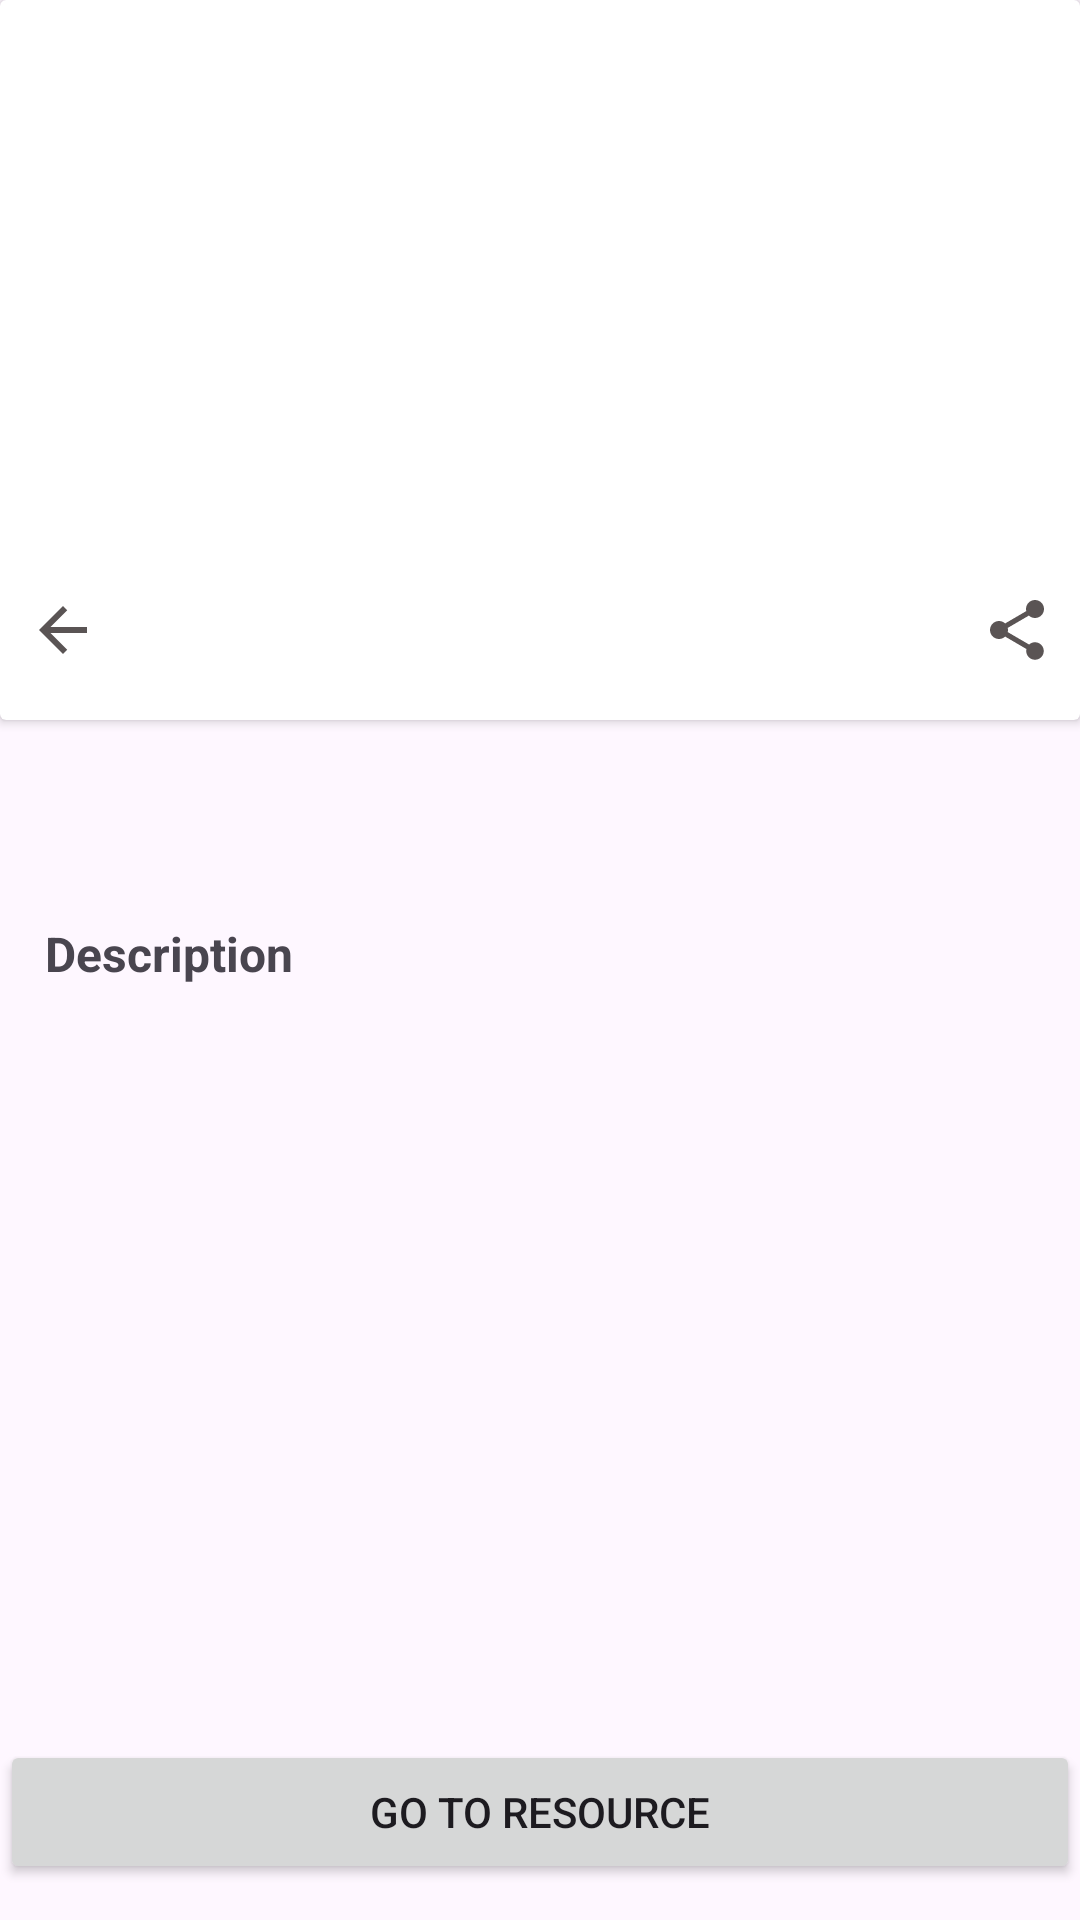

Icons on this 1080*1920 Android screen, each with its box as (x1, y1, x2, y2):
back arrow: (39, 606, 87, 654)
share: (990, 600, 1044, 660)
